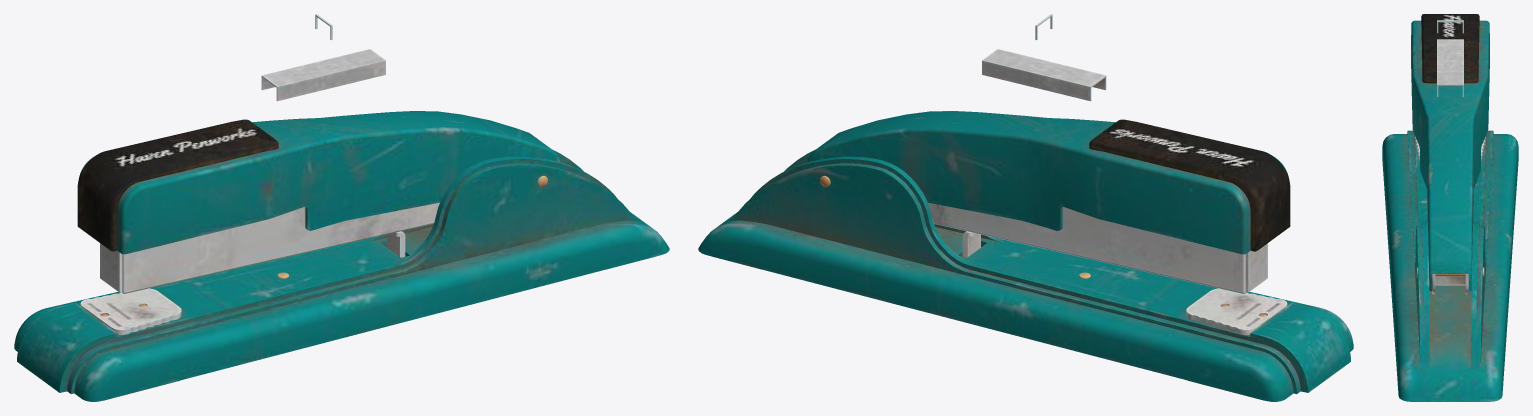
3 views of the same model, side by side, from view 1: azimuth 30°, elevation 25°; view 2: azimuth 150°, elevation 25°; view 3: azimuth 270°, elevation 25° (orthographic). The views are drawn at different scales.
Visible parts, largest first — view 1: vintage_stapler_base, vintage_stapler_top, vintage_stapler_staples; view 2: vintage_stapler_base, vintage_stapler_top, vintage_stapler_staples; view 3: vintage_stapler_base, vintage_stapler_top, vintage_stapler_staples.
Part boxes in pixels (left/top/right/bottom): vintage_stapler_base: left=14, top=149, right=669, bottom=401; vintage_stapler_top: left=77, top=111, right=560, bottom=293; vintage_stapler_staples: left=261, top=49, right=385, bottom=101; vintage_stapler_base: left=698, top=149, right=1353, bottom=401; vintage_stapler_top: left=807, top=111, right=1290, bottom=293; vintage_stapler_staples: left=982, top=49, right=1106, bottom=101; vintage_stapler_base: left=1382, top=130, right=1518, bottom=401; vintage_stapler_top: left=1411, top=14, right=1489, bottom=294; vintage_stapler_staples: left=1437, top=39, right=1463, bottom=96.
Bounding box in the file's own units: 0.2085 × 0.0953 × 0.0474.
Materials: 1 (1 with a texture image).
